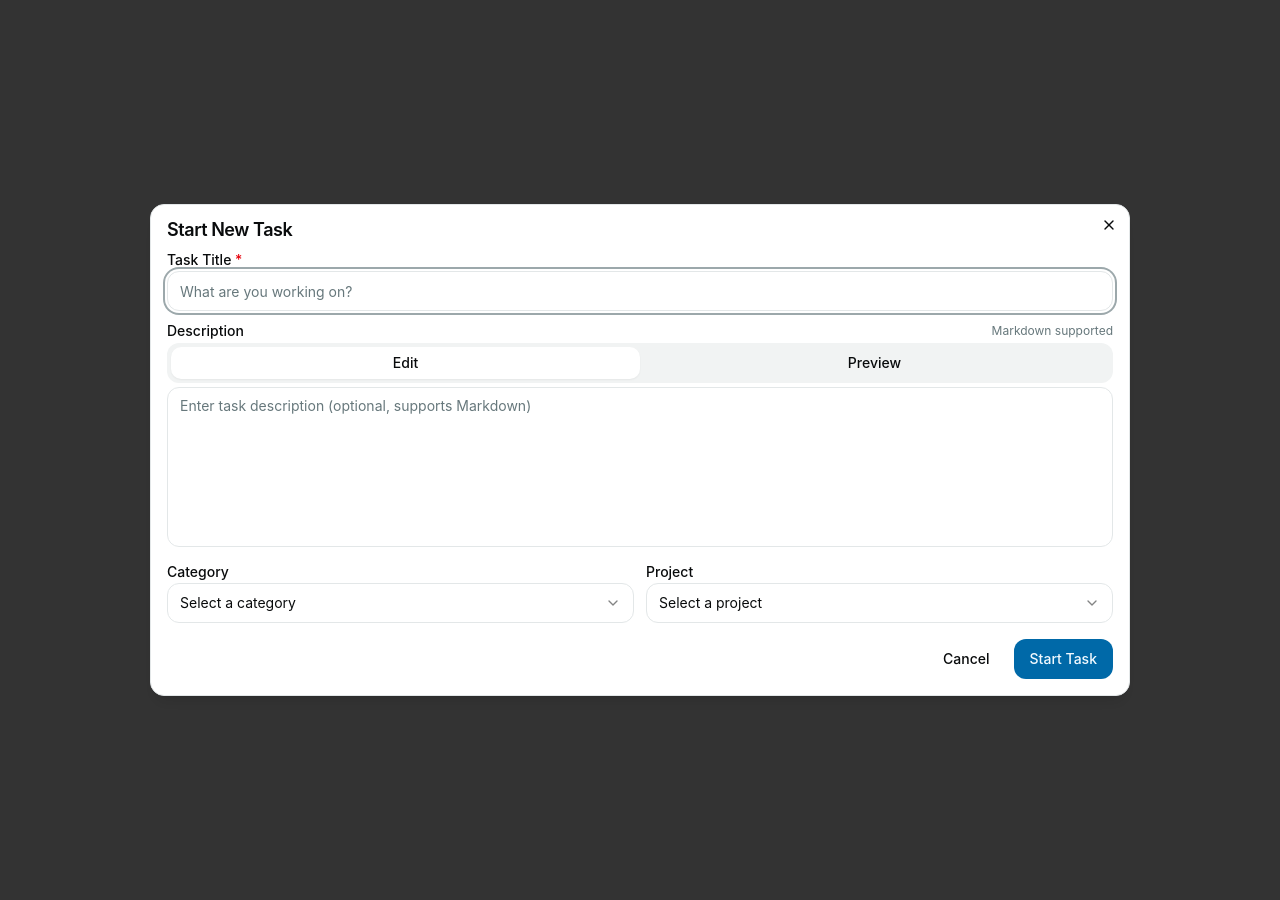
Test: NewTaskForm › shows a validation error when submitted with empty title
The image size is (1280, 900).
Click the button "Start Task". click: (1063, 659)
box: [1014,639,1113,679]
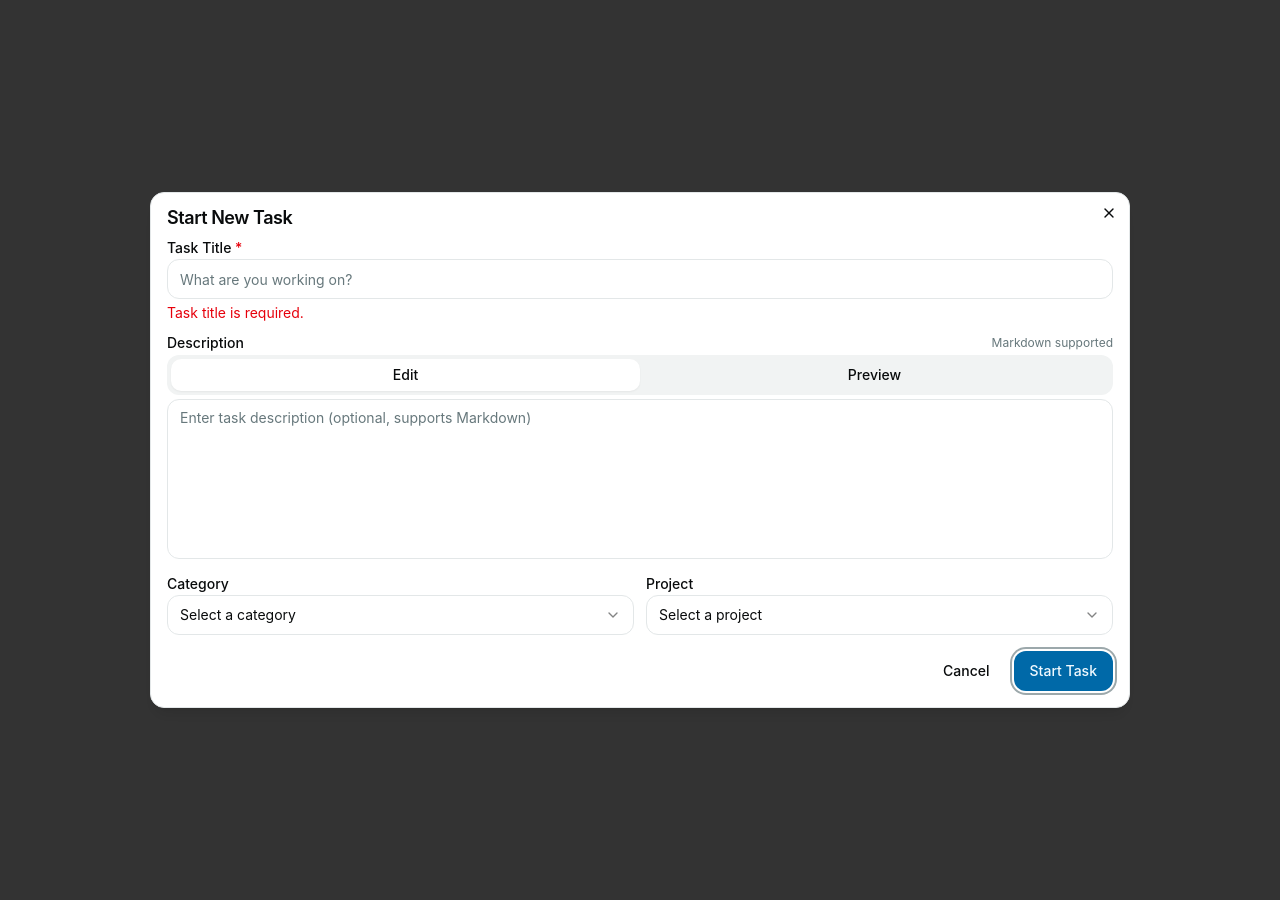
Check: the message shows "Task title is required", box [167,304,304,321]
